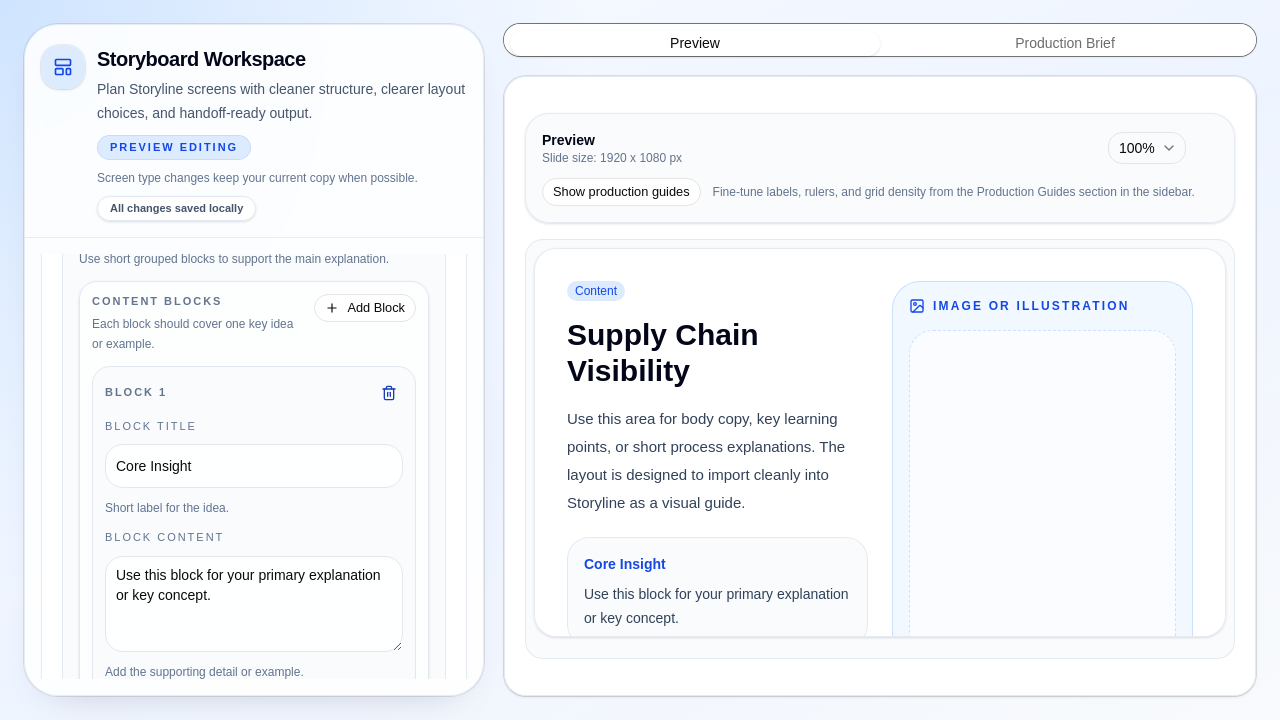
Scenario: StorylineLayoutGenerator › keeps the preview in sync after editing dynamic template fields
The image size is (1280, 720).
(page scrolled)
Replace the text in the field labelled "Block Title" with "Dynamic Insight": (254, 466) [105,444,403,488]
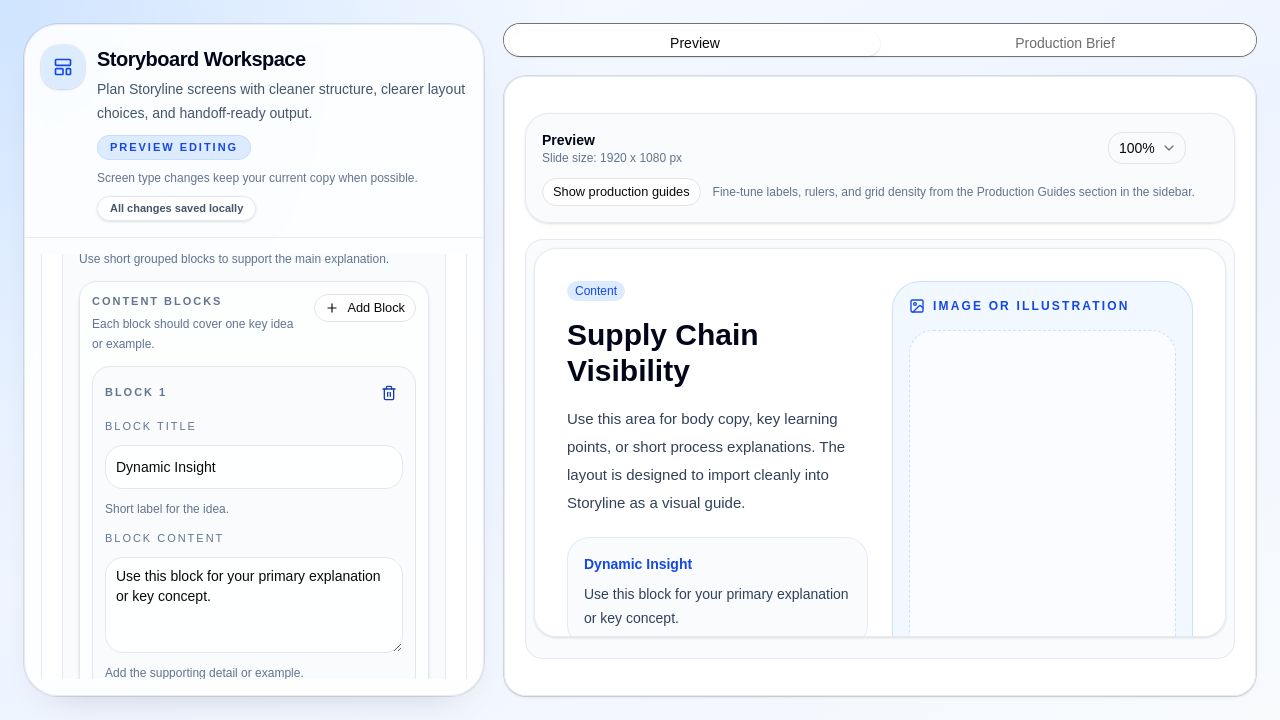
Expected: the tab "Preview" is shown, [510,30,880,56]
Expected: the text "Dynamic Insight" is shown, [584,556,692,572]
